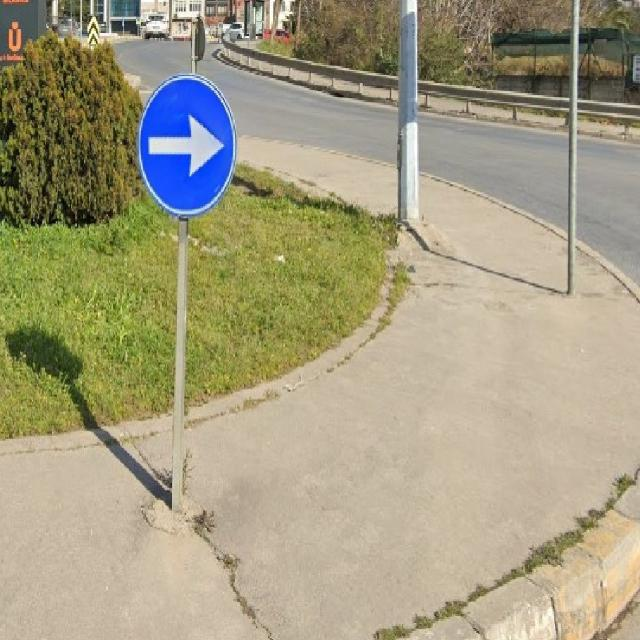Turn Right: (136, 74, 236, 222)
